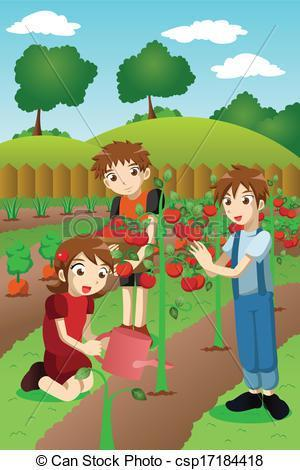person: (190, 161, 293, 426), (83, 136, 167, 353), (10, 235, 117, 402)
